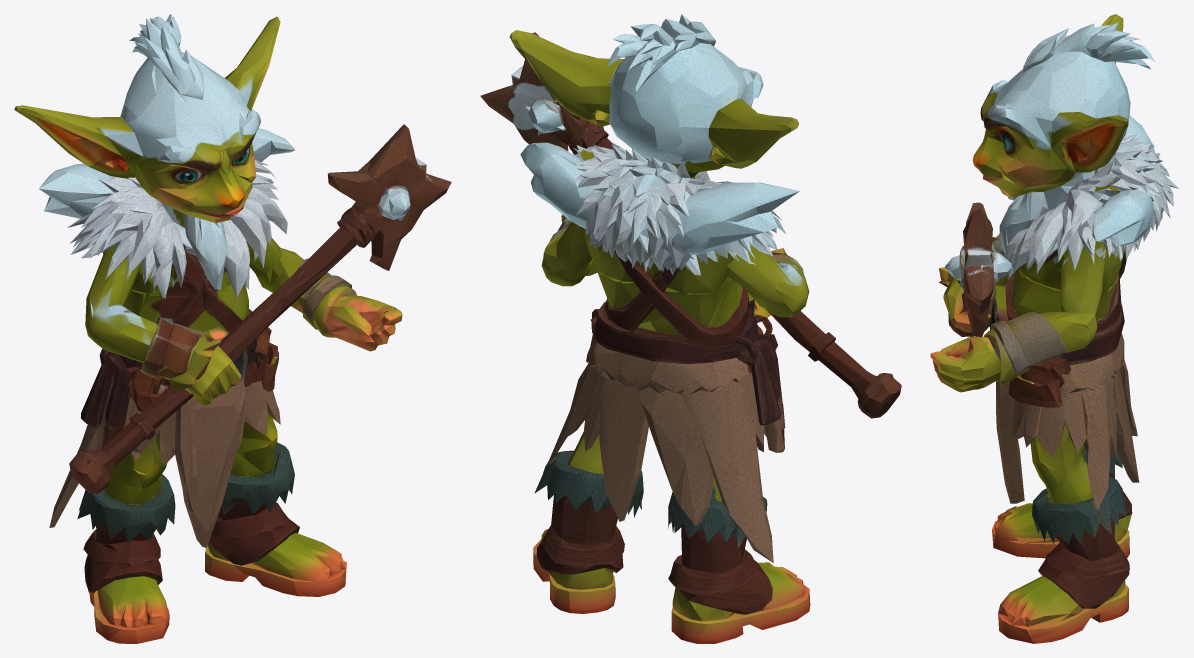
File: goblin.glb
The picture shows the model from 3 angles, left to right: view 1: azimuth 30°, elevation 25°; view 2: azimuth 150°, elevation 25°; view 3: azimuth 270°, elevation 25°; orthographic projection. The views are drawn at different scales.
Size of the model in its own units: 1.37 by 1.9 by 0.7815.
Materials: 1 (1 with a texture image).
